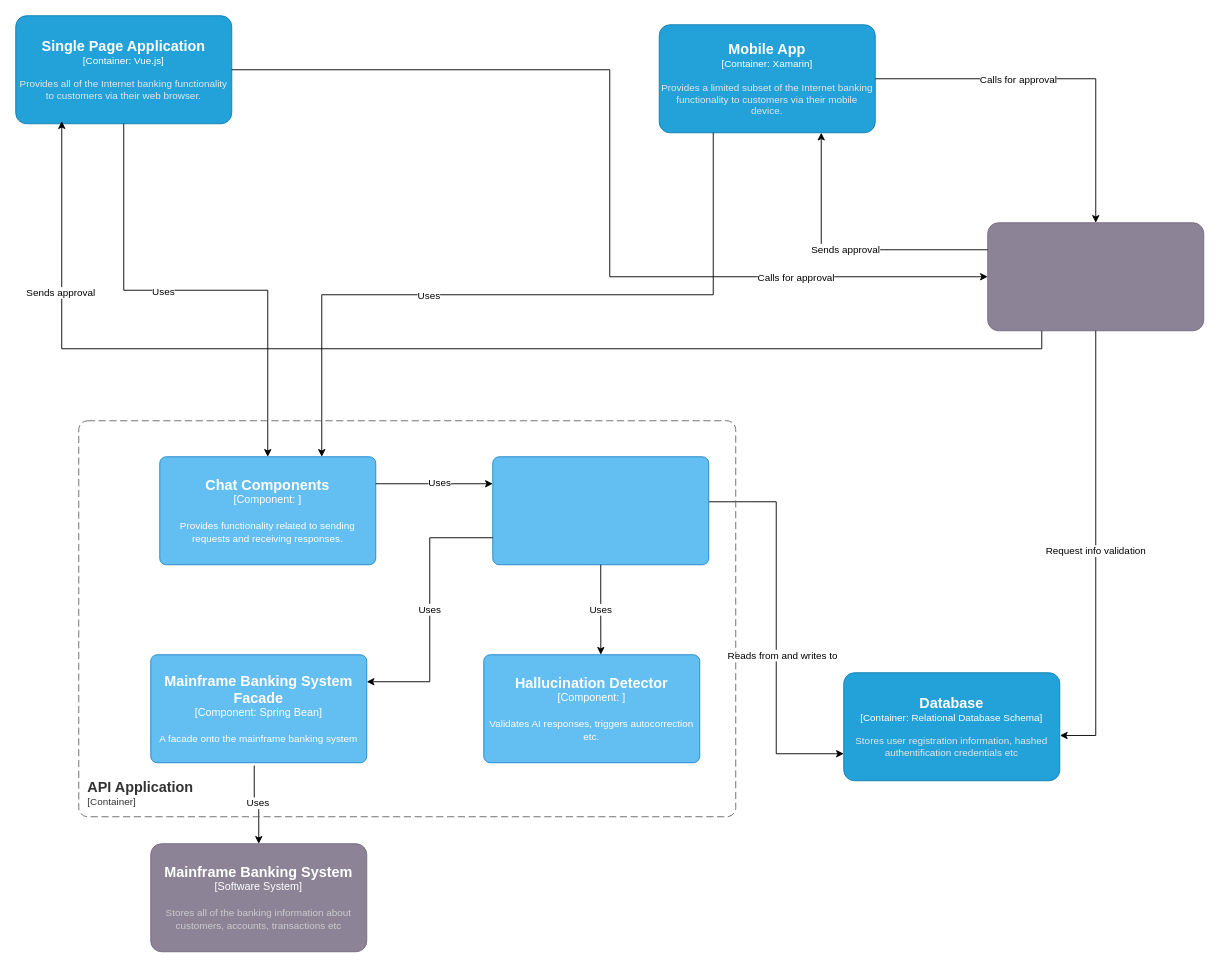
This 1220x968 diagram has some shape labels left out. The centre of each missing label's shape, as x and y in pixels:
"AI Assistant [Component: ] Analyzes requests and provides responses" goes at pixel 600 510.
"Login System [Software System]" goes at pixel 1095 276.
